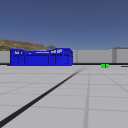blue_basket: (10, 48, 73, 66)
green_cube: (101, 64, 109, 68)
